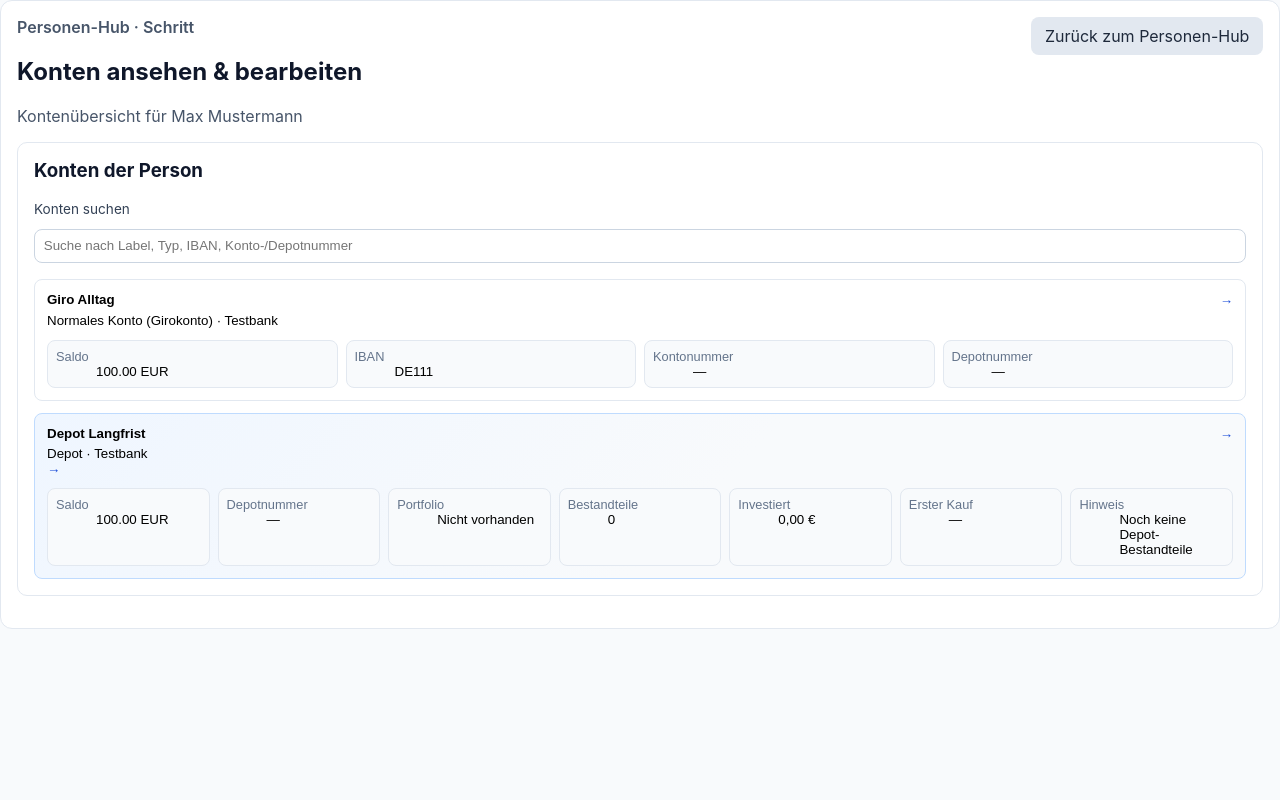
it: AccountsView list flow › filters account list through search input
This screenshot has width=1280, height=800.
Type "langfrist" into the search field labelled "Konten suchen" at (640, 246), box x1=34 y1=228 x2=1246 y2=263
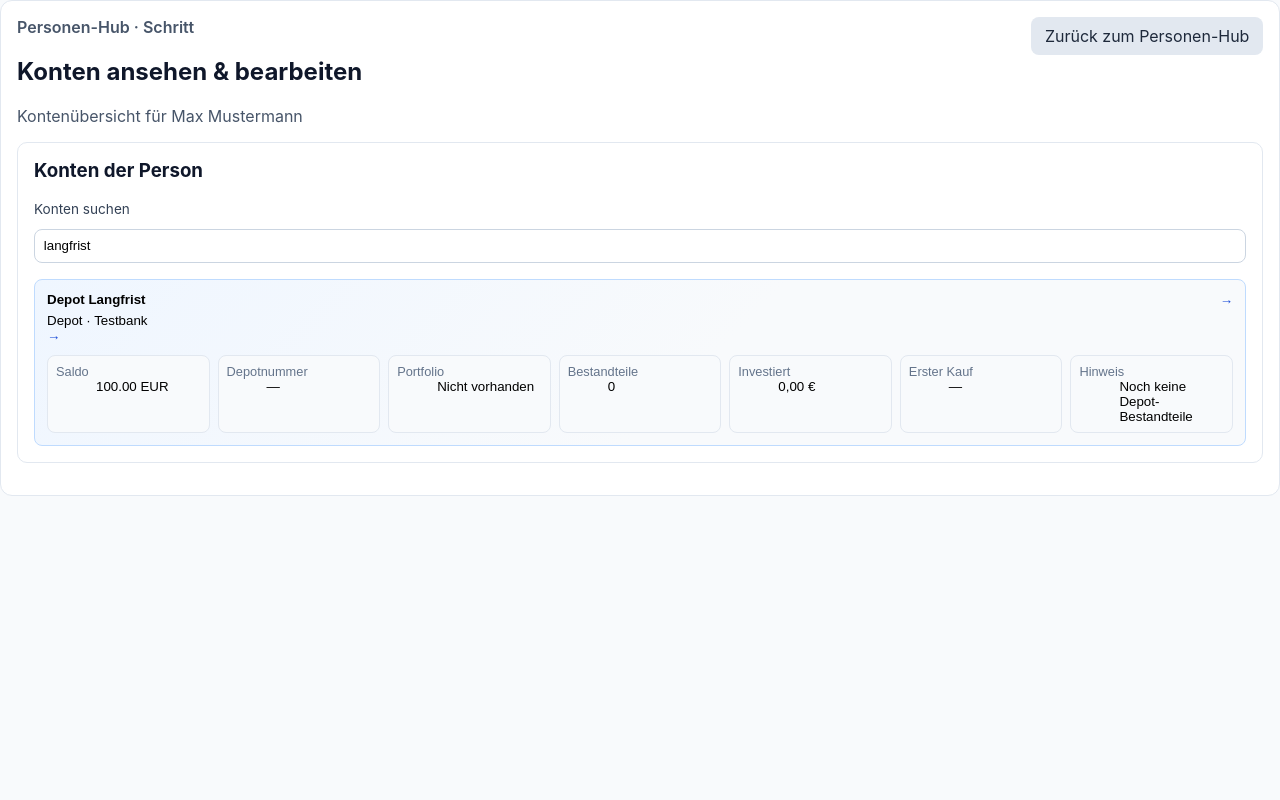
Expected: the text "Depot Langfrist" is shown, x1=47 y1=292 x2=146 y2=307
Expected: the text "Giro Alltag" is gone
